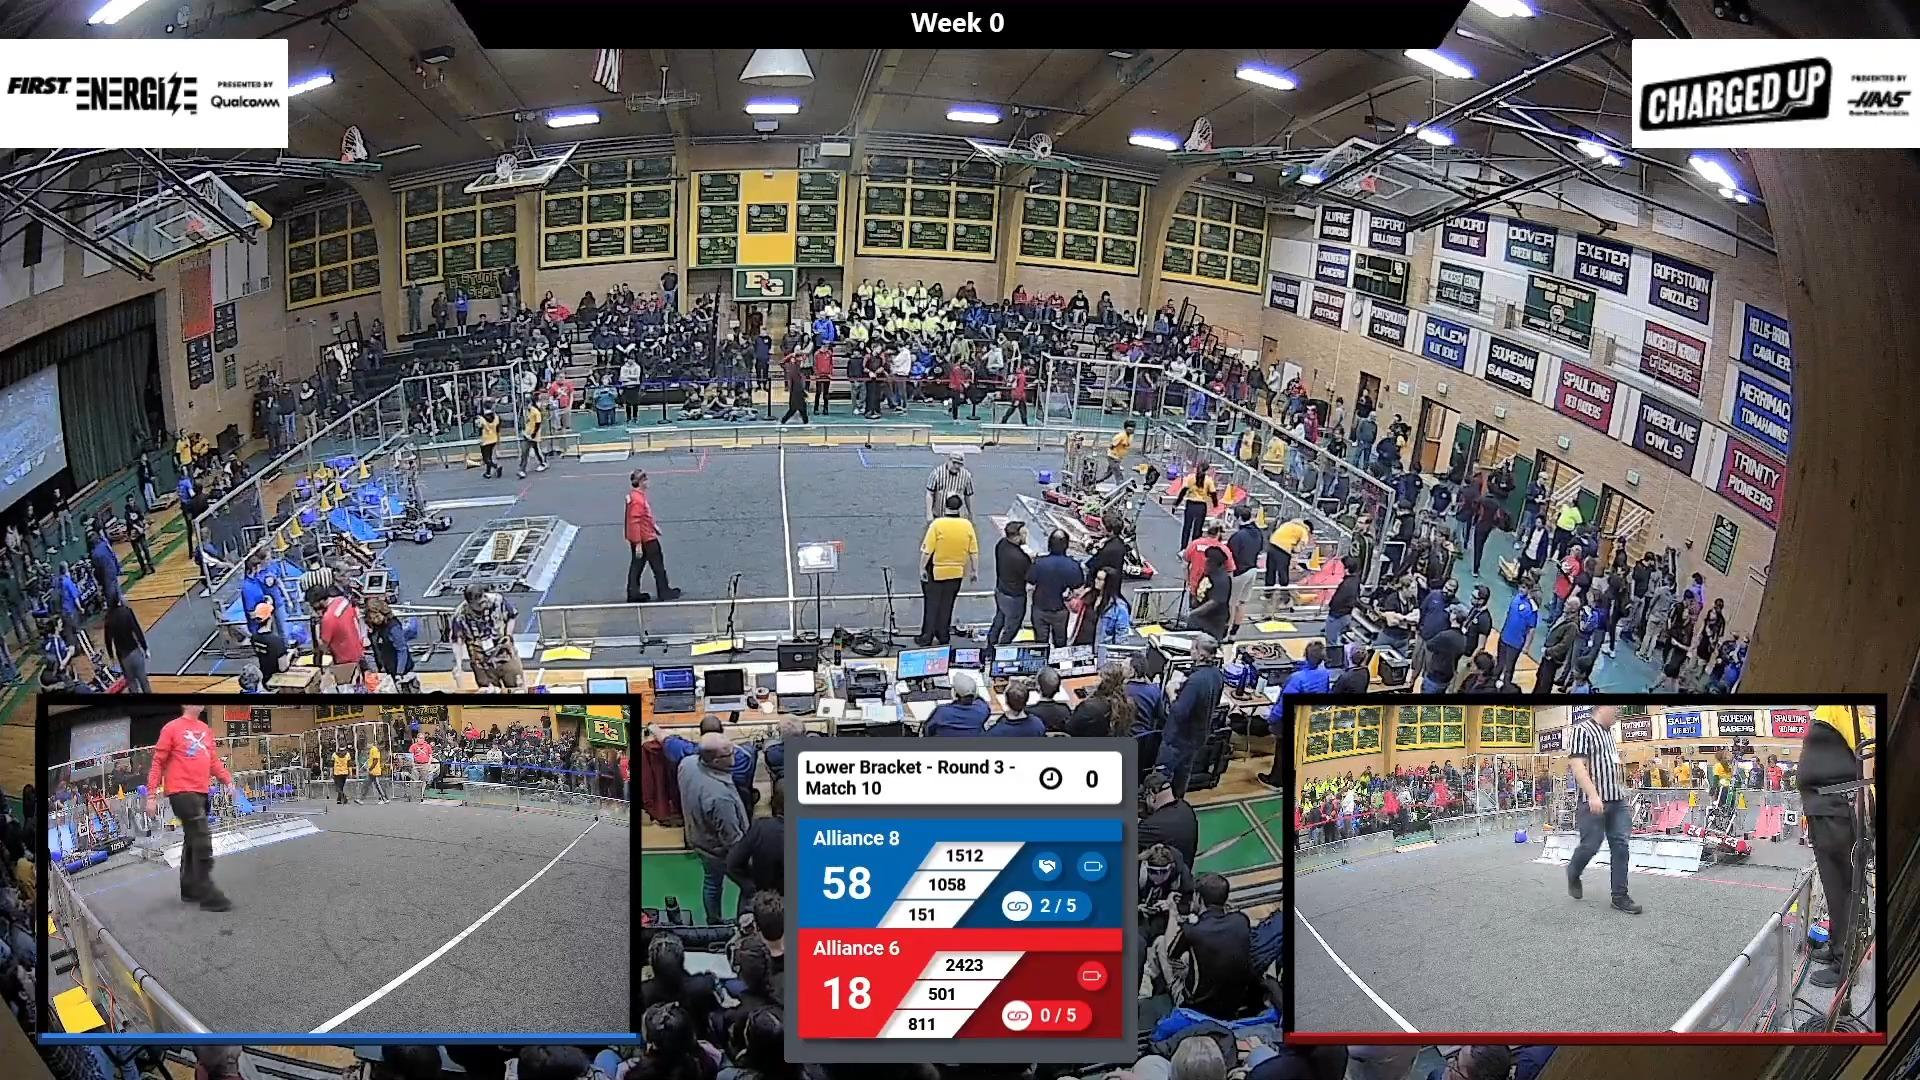robot: (1039, 431, 1122, 516), (313, 533, 404, 603), (1067, 476, 1160, 539), (385, 477, 459, 553), (352, 601, 435, 661), (1089, 524, 1159, 584)
